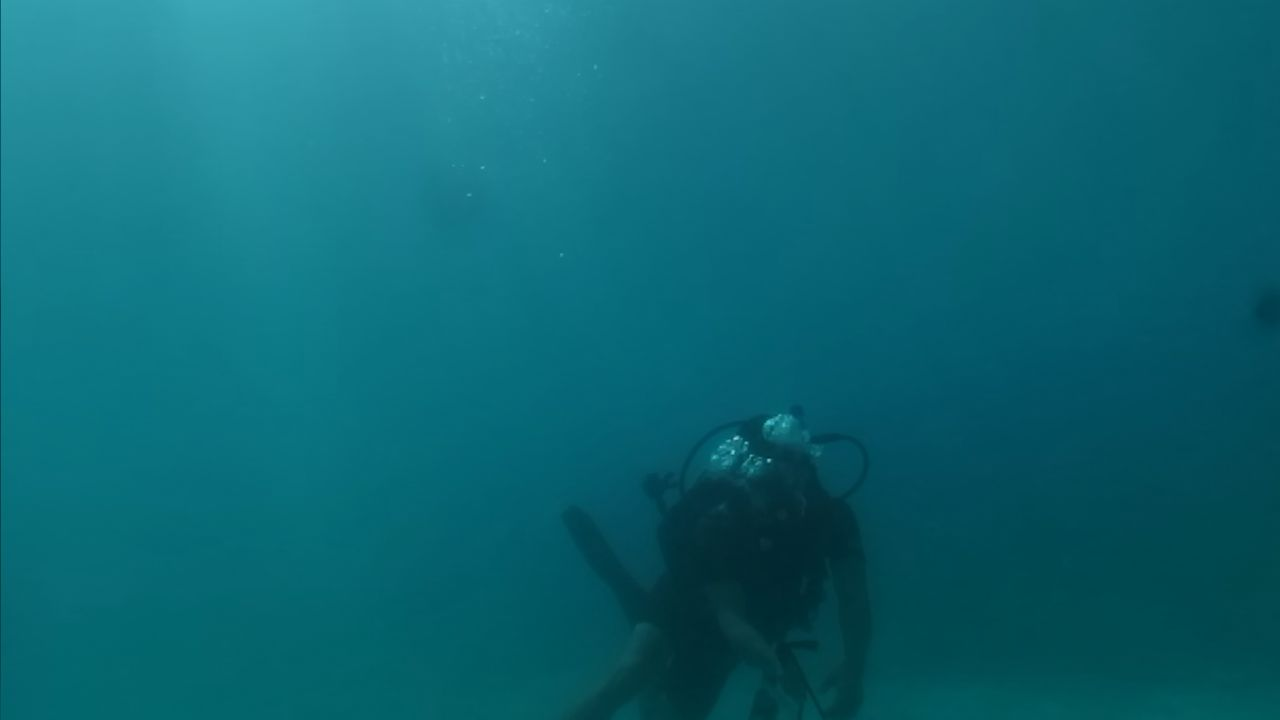Diver: (526, 404, 924, 712)
Hand: (742, 652, 810, 708), (830, 662, 878, 708)
